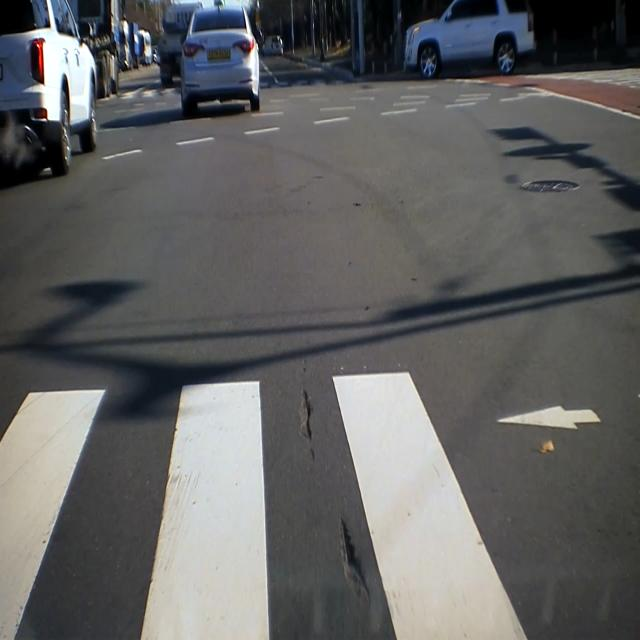Pothole: (336, 504, 374, 612), (295, 388, 316, 447)
